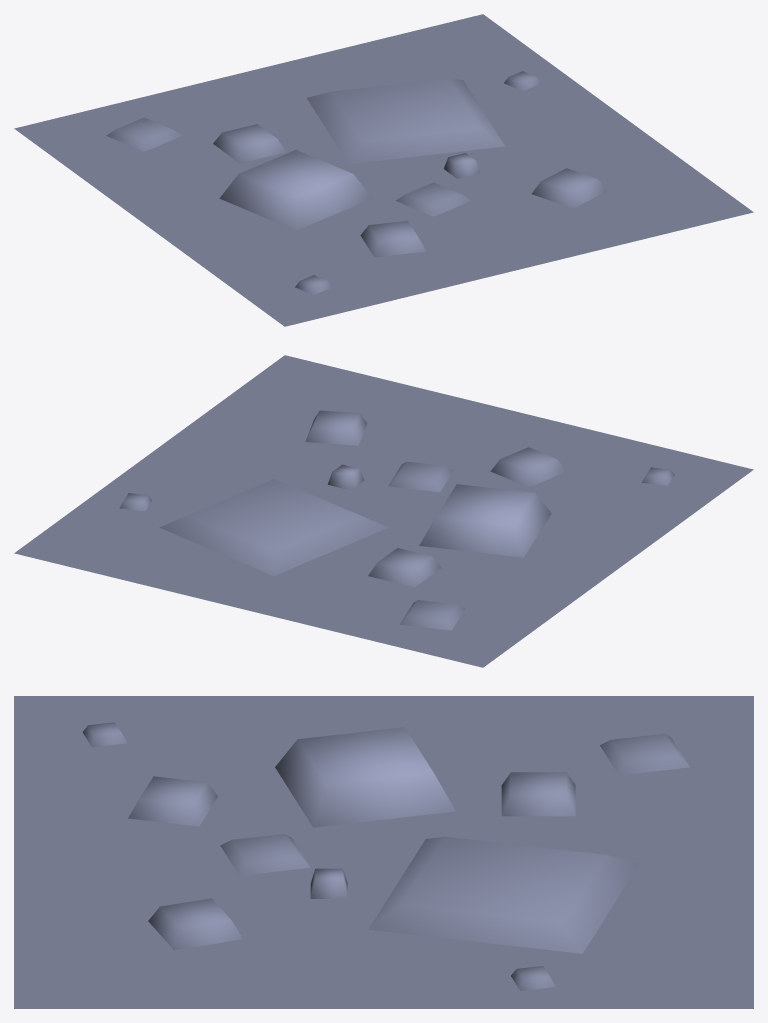
File: floor-detail.003_lev5.glb
3 views of the same model, one above another, from view 1: azimuth 30°, elevation 25°; view 2: azimuth 150°, elevation 25°; view 3: azimuth 270°, elevation 25° (orthographic). The views are drawn at different scales.
Visible parts, largest first — view 1: floor-detail.003_lev5; view 2: floor-detail.003_lev5; view 3: floor-detail.003_lev5.
Boxes of the visible parts, <box> form: floor-detail.003_lev5: <box>14,14,753,326</box>; floor-detail.003_lev5: <box>14,355,753,667</box>; floor-detail.003_lev5: <box>14,696,753,1008</box>.
Size of the model in its own units: 4 by 0.2 by 4.
1 material, 1 textured.
